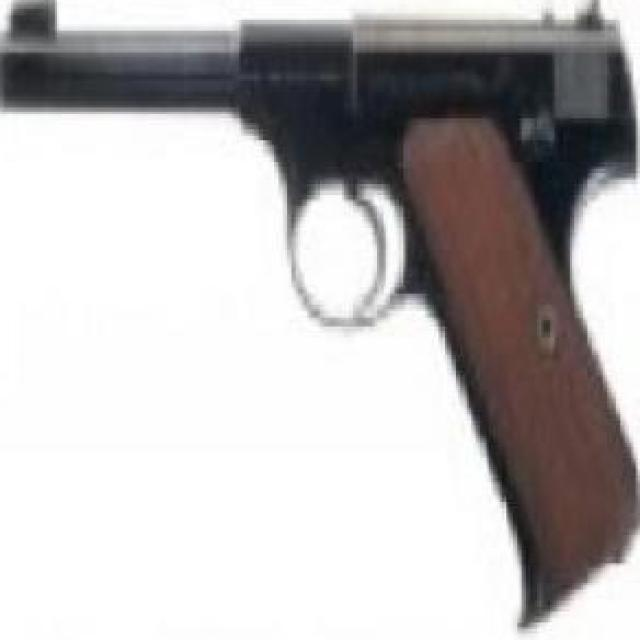pistol: (0, 0, 636, 629)
